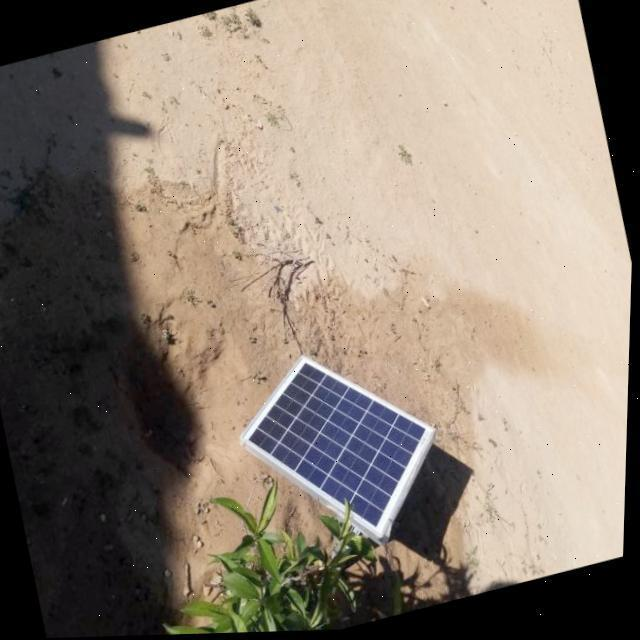Normal Solar Panel: (227, 328, 460, 567)
